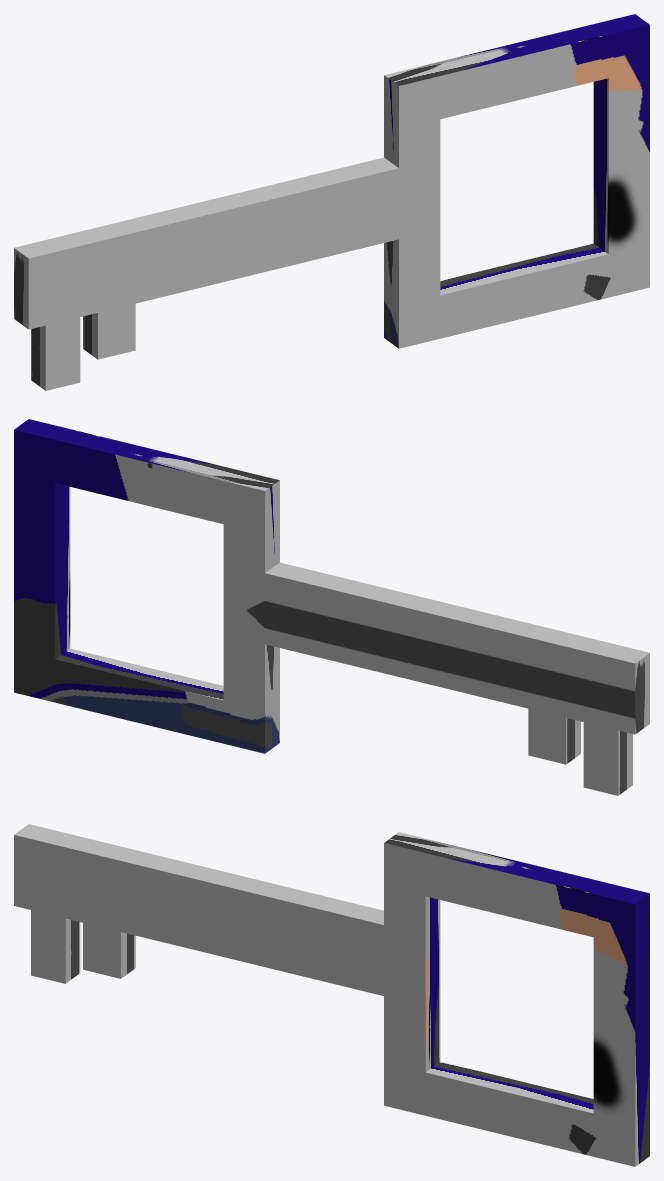
Rendered from Key.fbx.
3 views of the same model, one above another, from view 1: azimuth 30°, elevation 25°; view 2: azimuth 150°, elevation 25°; view 3: azimuth 330°, elevation 25° (orthographic).
Parts seen in each view (by area): view 1: Cube; view 2: Cube; view 3: Cube.
Part boxes in pixels (x1=…): Cube: x1=14, y1=14, x2=649, y2=390; Cube: x1=14, y1=419, x2=649, y2=795; Cube: x1=14, y1=824, x2=649, y2=1166.
Bounding box in the file's own units: 495 × 200 × 20.39.
